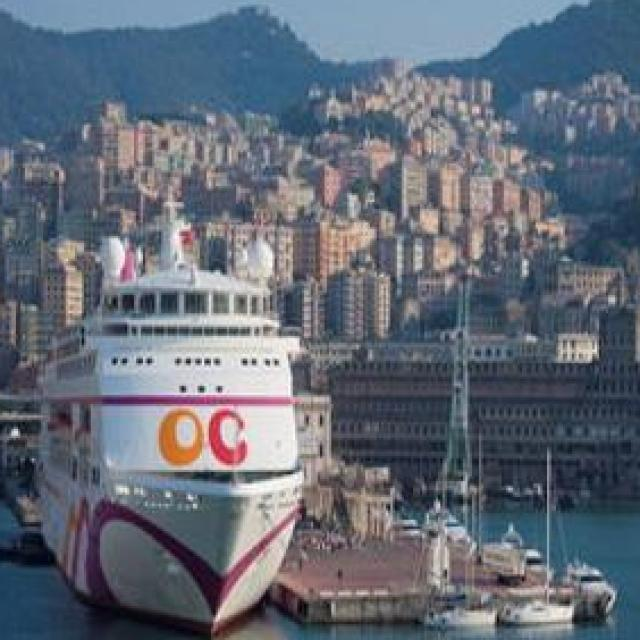houseboat: (557, 558, 619, 620), (426, 595, 504, 635), (511, 590, 583, 630)
passenger ship: (25, 243, 301, 638)
